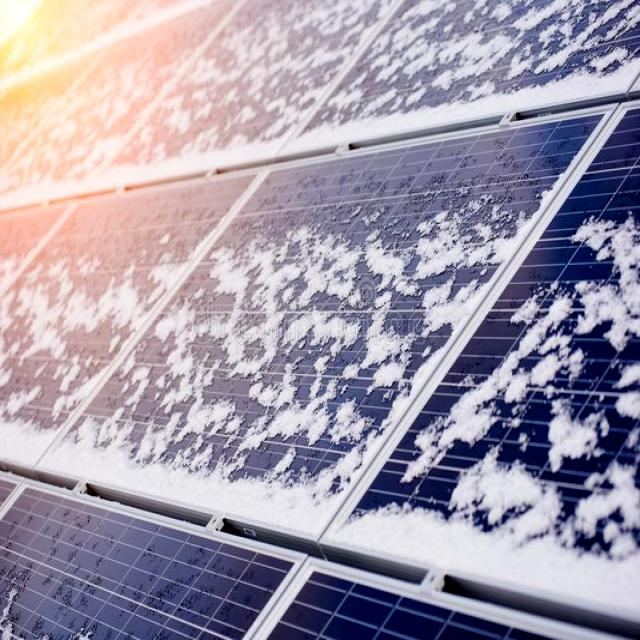panel: (355, 501, 639, 611), (544, 213, 636, 546), (65, 440, 351, 538), (216, 298, 405, 414), (428, 329, 538, 524), (62, 55, 205, 157), (466, 8, 616, 102), (105, 294, 206, 424), (352, 199, 498, 285), (340, 3, 444, 106), (215, 24, 320, 126), (4, 258, 96, 369), (213, 228, 338, 288), (0, 417, 48, 466)
